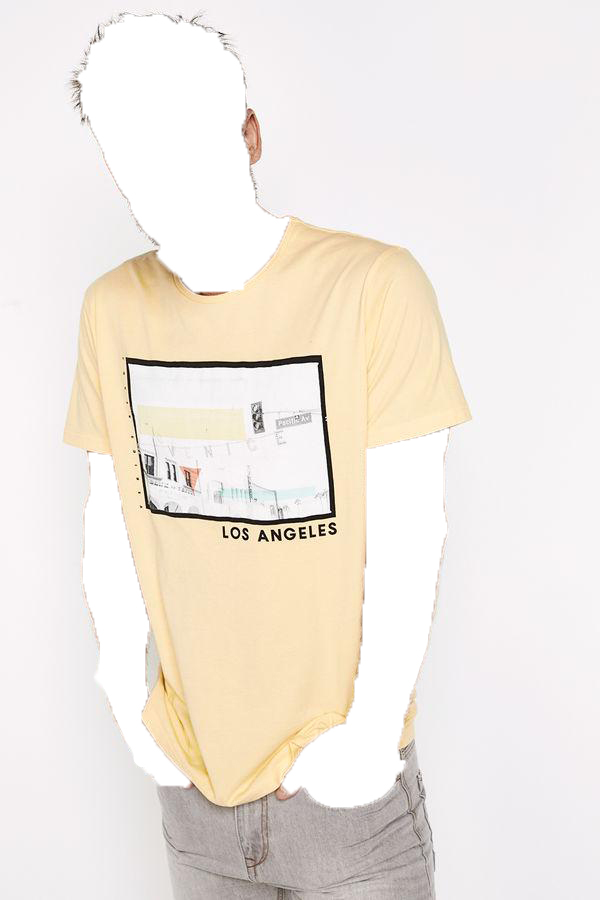teeshirt: (49, 221, 463, 793)
